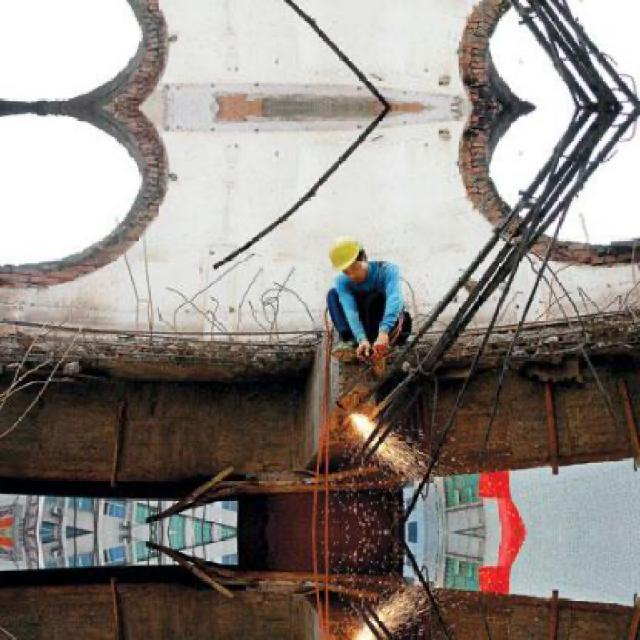helmet: (328, 232, 366, 283)
